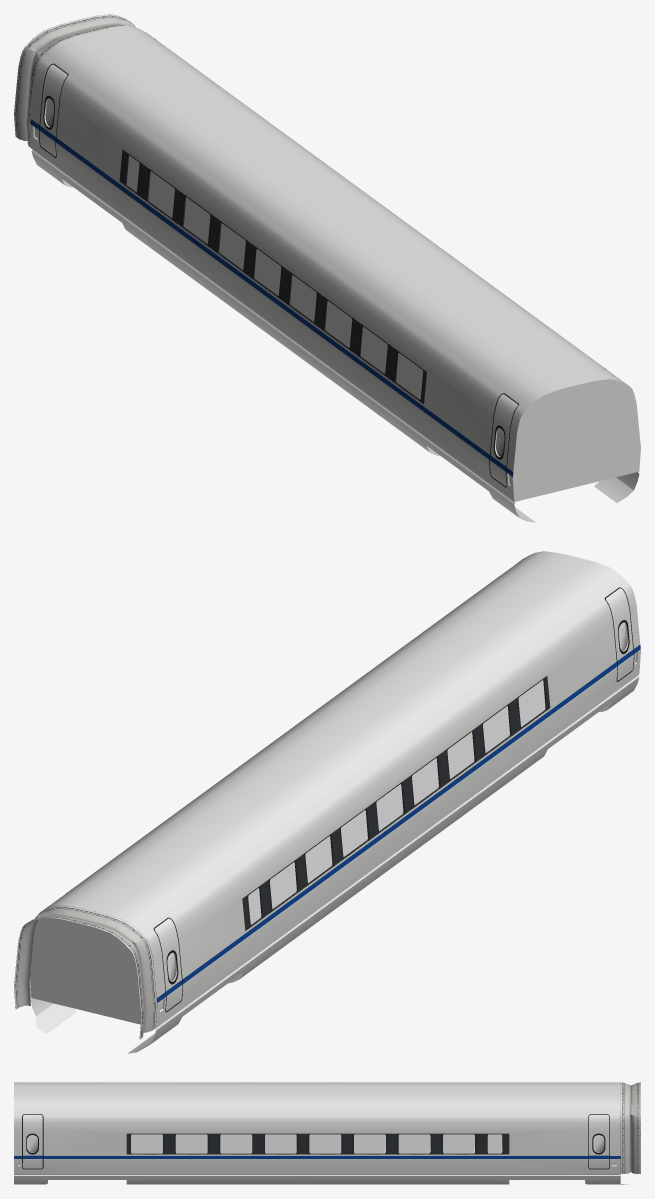
3 views of the same model, one above another, from view 1: azimuth 30°, elevation 25°; view 2: azimuth 150°, elevation 25°; view 3: azimuth 270°, elevation 25° (orthographic). The views are drawn at different scales.
Visible parts, largest first — view 1: 车厢; view 2: 车厢; view 3: 车厢.
Part boxes in pixels (x1,y1,x2,y2): 车厢: (14, 14, 640, 522); 车厢: (14, 551, 640, 1053); 车厢: (14, 1082, 640, 1184).
Bounding box in the file's own units: 152 × 145 × 1024.
